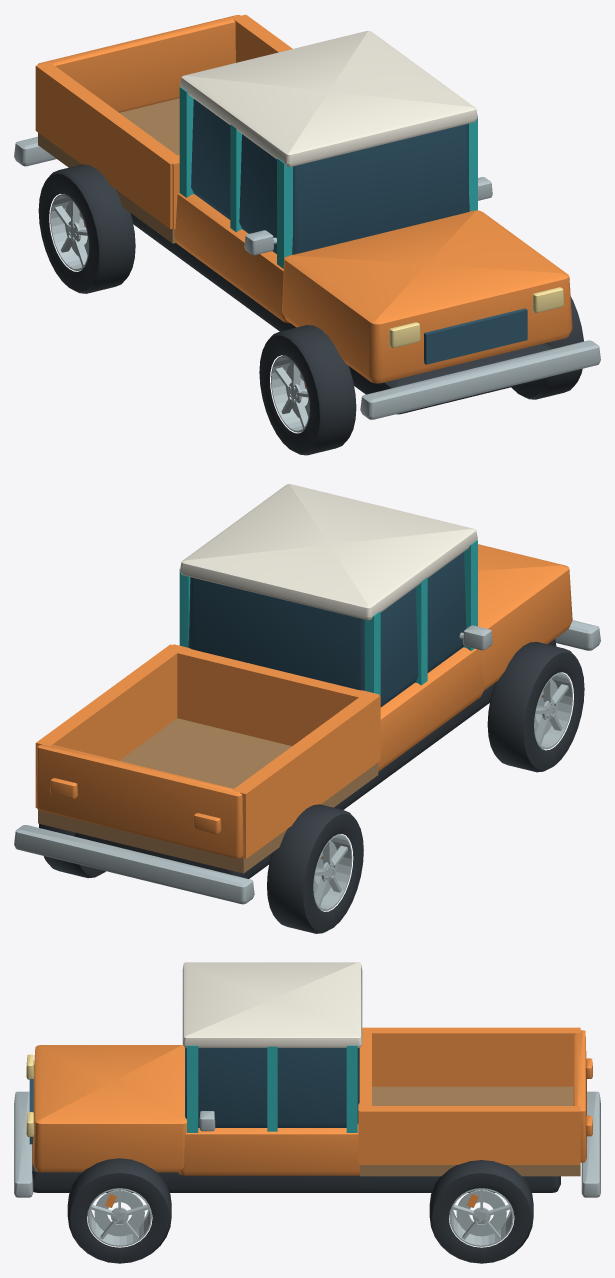
Rendered from street_pickup.glb.
3 renders of one model, top to bottom at view 1: azimuth 30°, elevation 25°; view 2: azimuth 150°, elevation 25°; view 3: azimuth 270°, elevation 25°, orthographic. The views are drawn at different scales.
Parts seen in each view (by area): view 1: utility-pickup, wheel-front-left (×2), wheel-rear-left (×2), tailgate, wheel-front-right; view 2: utility-pickup, tailgate, wheel-front-left (×2), wheel-rear-left (×2), wheel-rear-right; view 3: utility-pickup, wheel-front-right (×2), wheel-rear-right (×2), tailgate.
Boxes of the visible parts, x1,y1,x2,y2 form: utility-pickup: [14, 14, 600, 419]; wheel-front-left (×2): [259, 325, 356, 455]; wheel-rear-left (×2): [38, 164, 135, 293]; tailgate: [37, 15, 240, 112]; wheel-front-right: [511, 296, 583, 399]; utility-pickup: [14, 484, 600, 904]; tailgate: [36, 744, 243, 858]; wheel-front-left (×2): [487, 642, 584, 772]; wheel-rear-left (×2): [267, 804, 363, 933]; wheel-rear-right: [39, 823, 105, 878]; utility-pickup: [14, 962, 600, 1197]; wheel-front-right (×2): [67, 1158, 171, 1263]; wheel-rear-right (×2): [429, 1160, 533, 1263]; tailgate: [573, 1030, 586, 1162].
Size of the model in its own units: 2.24 by 2.08 by 5.19.
